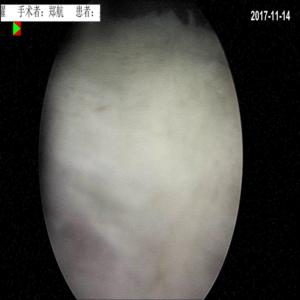film: (115, 83, 177, 139)
